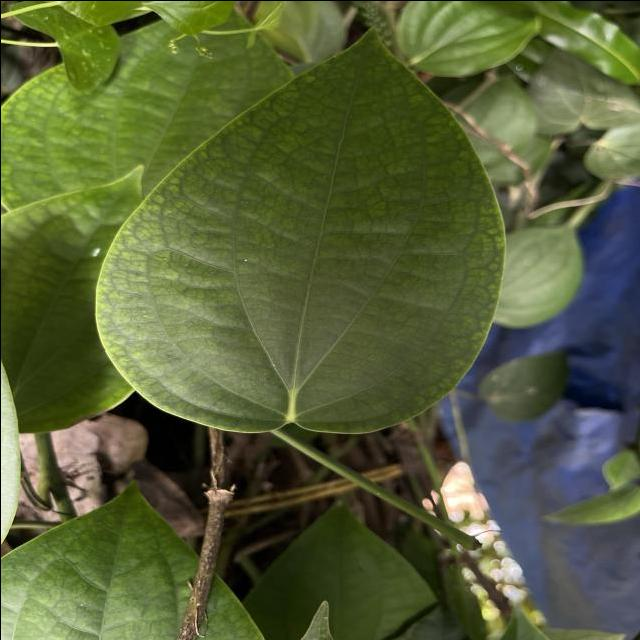Piper nigrum: (91, 22, 508, 436)
